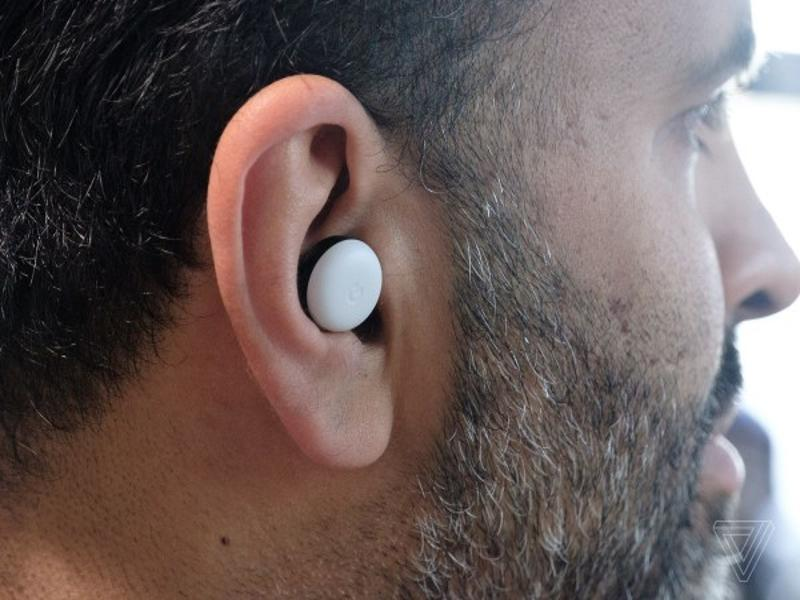headphone: (292, 237, 384, 337)
